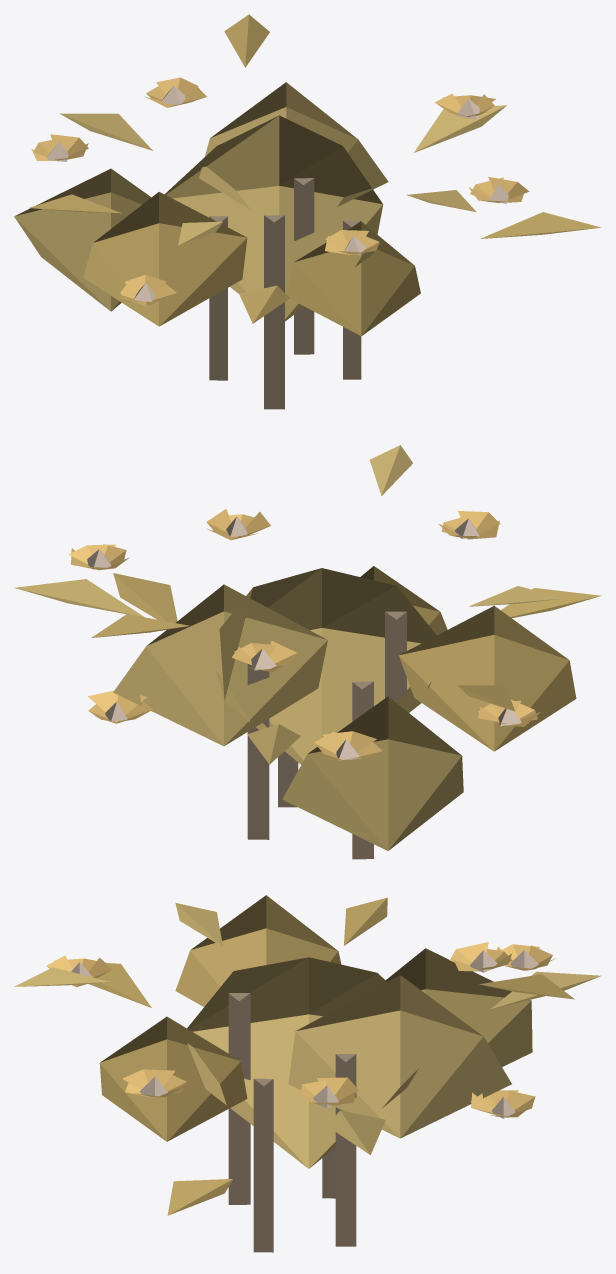
The model's file is guan.lianqiao@flowering__autumn.glb.
3 renders of one model, top to bottom at view 1: azimuth 30°, elevation 25°; view 2: azimuth 150°, elevation 25°; view 3: azimuth 270°, elevation 25°, orthographic. The views are drawn at different scales.
Visible parts, largest first — view 1: guan.lianqiao@flowering__autumn; view 2: guan.lianqiao@flowering__autumn; view 3: guan.lianqiao@flowering__autumn.
Part boxes in pixels (<box>): guan.lianqiao@flowering__autumn: <box>14,14,600,409</box>; guan.lianqiao@flowering__autumn: <box>14,445,601,859</box>; guan.lianqiao@flowering__autumn: <box>14,895,601,1252</box>.
Size of the model in its own units: 3.08 by 1.6 by 3.03.
